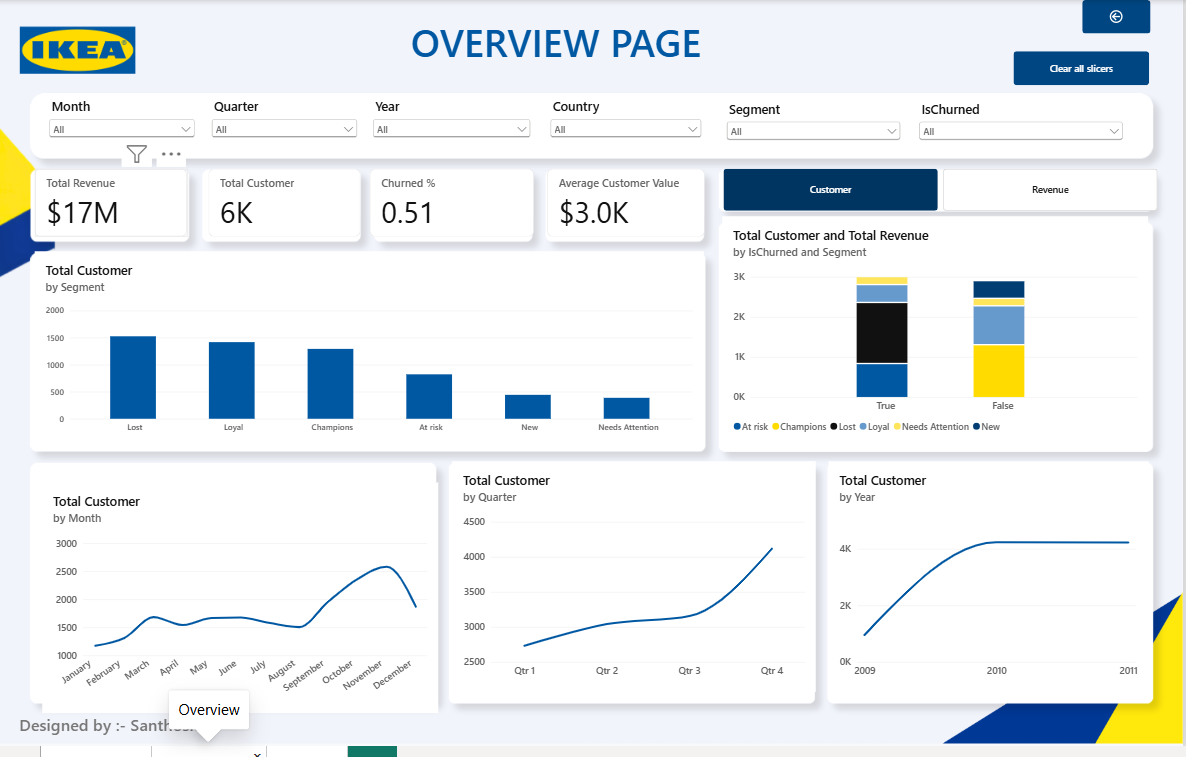

Layout of this report page (visuals, bound fields, positions):
{"tool":"powerbi","page":{"name":"Overview","canvas":[1750,1100],"ordinal":1},"visuals":[{"type":"cardVisual","fields":{"Data":["Sheet1.Total Revenue"]},"box":[58,248,224,100],"z":0},{"type":"lineChart","fields":{"Category":["Sheet1.InvoiceDate.Variation.Date Hierarchy.Month"],"Y":["Sheet1.Total Customer"]},"box":[67.4,712.2,584,340],"z":0,"group":"g1"},{"type":"cardVisual","fields":{"Data":["Sheet1.Total Customer"]},"box":[314,248,224,100],"z":1000},{"type":"lineChart","fields":{"Category":["Sheet1.InvoiceDate.Variation.Date Hierarchy.Year"],"Y":["Sheet1.Total Customer"]},"box":[1227.1,680.9,472,340],"z":1000,"group":"g1"},{"type":"cardVisual","fields":{"Data":["Sheet1.Average Customer Value"]},"box":[812,248,232,100],"z":2000},{"type":"lineChart","fields":{"Category":["Sheet1.InvoiceDate.Variation.Date Hierarchy.Quarter"],"Y":["Sheet1.Total Customer"]},"box":[673.1,680.9,536,340],"z":2000,"group":"g1"},{"type":"cardVisual","fields":{"Data":["Sheet1.Churned %"]},"box":[552,248,242,100],"z":3000},{"type":"columnChart","fields":{"Category":["Sheet1.IsChurned"],"Series":["Sheet1.Segment"],"Y":["Sheet1.Total Customer"]},"box":[1071.1,318.9,628,340],"z":3000,"group":"g1"},{"type":"slicer","fields":{"Values":["Sheet1.InvoiceDate.Variation.Date Hierarchy.Month"]},"box":[74,144,224,80],"z":4000},{"type":"columnChart","fields":{"Category":["Sheet1.Segment"],"Y":["Sheet1.Total Customer"]},"box":[57.1,370.9,986,288],"z":4000,"group":"g1"},{"type":"slicer","fields":{"Values":["Sheet1.InvoiceDate.Variation.Date Hierarchy.Quarter"]},"box":[314,144,224,86],"z":5000},{"type":"slicer","fields":{"Values":["Sheet1.InvoiceDate.Variation.Date Hierarchy.Year"]},"box":[552,144,242,88],"z":6000},{"type":"slicer","fields":{"Values":["Sheet1.Country"]},"box":[812,144,232,88],"z":7000},{"type":"slicer","fields":{"Values":["Sheet1.Segment"]},"box":[1072,148,266,84],"z":8000},{"type":"slicer","fields":{"Values":["Sheet1.IsChurned"]},"box":[1356,148,310,76],"z":9000},{"type":"group","id":"g1","title":"Customer","box":[57.1,318.9,1642.3,733.6],"z":10000},{"type":"bookmarkNavigator","box":[1072.7,248.8,641.4,62.7],"z":12000},{"type":"image","box":[0,0,241,148.1],"z":13000},{"type":"actionButton","box":[1601.9,0,100.7,49.4],"z":14000},{"type":"actionButton","box":[1501.1,75.1,200,50],"z":15000},{"type":"textbox","box":[376,24,899.5,101.4],"z":16000},{"type":"textbox","box":[20.3,1052.5,293.1,47.9],"z":17000}]}

Visuals, with their boxes in screenshot pixels (x1, y1, x2, y2), scaled from the page's 1750x1100 canvas onto the 1186x757 screenshot:
cardVisual - Sheet1.Total Revenue: [left=39, top=171, right=191, bottom=239]
lineChart - Sheet1.InvoiceDate.Variation.Date Hierarchy.Month x Sheet1.Total Customer: [left=46, top=490, right=441, bottom=724]
cardVisual - Sheet1.Total Customer: [left=213, top=171, right=365, bottom=239]
lineChart - Sheet1.InvoiceDate.Variation.Date Hierarchy.Year x Sheet1.Total Customer: [left=832, top=469, right=1152, bottom=703]
cardVisual - Sheet1.Average Customer Value: [left=550, top=171, right=708, bottom=239]
lineChart - Sheet1.InvoiceDate.Variation.Date Hierarchy.Quarter x Sheet1.Total Customer: [left=456, top=469, right=819, bottom=703]
cardVisual - Sheet1.Churned %: [left=374, top=171, right=538, bottom=239]
columnChart - Sheet1.IsChurned x Sheet1.Segment: [left=726, top=219, right=1152, bottom=453]
slicer - Sheet1.InvoiceDate.Variation.Date Hierarchy.Month: [left=50, top=99, right=202, bottom=154]
columnChart - Sheet1.Segment x Sheet1.Total Customer: [left=39, top=255, right=707, bottom=453]
slicer - Sheet1.InvoiceDate.Variation.Date Hierarchy.Quarter: [left=213, top=99, right=365, bottom=158]
slicer - Sheet1.InvoiceDate.Variation.Date Hierarchy.Year: [left=374, top=99, right=538, bottom=160]
slicer - Sheet1.Country: [left=550, top=99, right=708, bottom=160]
slicer - Sheet1.Segment: [left=727, top=102, right=907, bottom=160]
slicer - Sheet1.IsChurned: [left=919, top=102, right=1129, bottom=154]
"Customer" group: [left=39, top=219, right=1152, bottom=724]
bookmarkNavigator: [left=727, top=171, right=1162, bottom=214]
image: [left=0, top=0, right=163, bottom=102]
actionButton: [left=1086, top=0, right=1154, bottom=34]
actionButton: [left=1017, top=52, right=1153, bottom=86]
textbox: [left=255, top=17, right=864, bottom=86]
textbox: [left=14, top=724, right=212, bottom=756]
